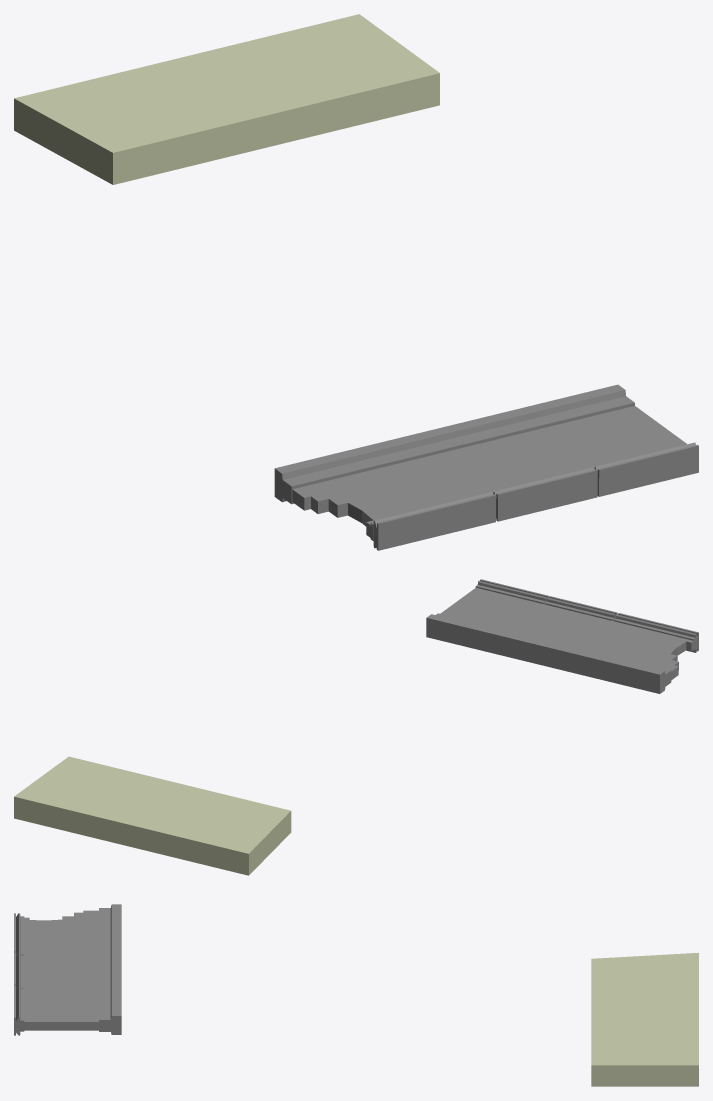
Rendered from ruins_RuinWallSegment_01.glb.
3 views of the same model, one above another, from view 1: azimuth 30°, elevation 25°; view 2: azimuth 150°, elevation 25°; view 3: azimuth 270°, elevation 25° (orthographic). The views are drawn at different scales.
Parts seen in each view (by area): view 1: geometry_0; view 2: geometry_0; view 3: geometry_0.
Boxes of the visible parts, left/top/right/bottom form: geometry_0: left=14, top=14, right=698, bottom=550; geometry_0: left=14, top=579, right=698, bottom=875; geometry_0: left=14, top=904, right=698, bottom=1086.
Bounding box in the file's own units: 3.38 × 0.2559 × 5.8.
